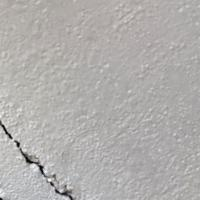crack: (0, 117, 88, 199)
